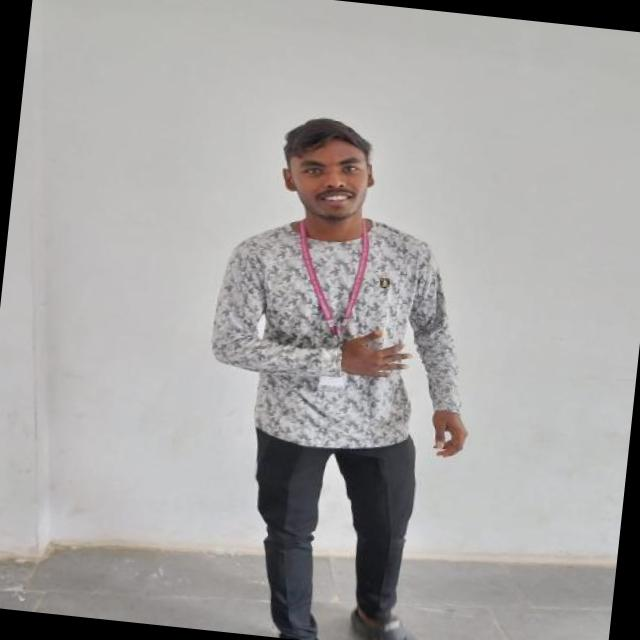id_card: (285, 212, 376, 358)
